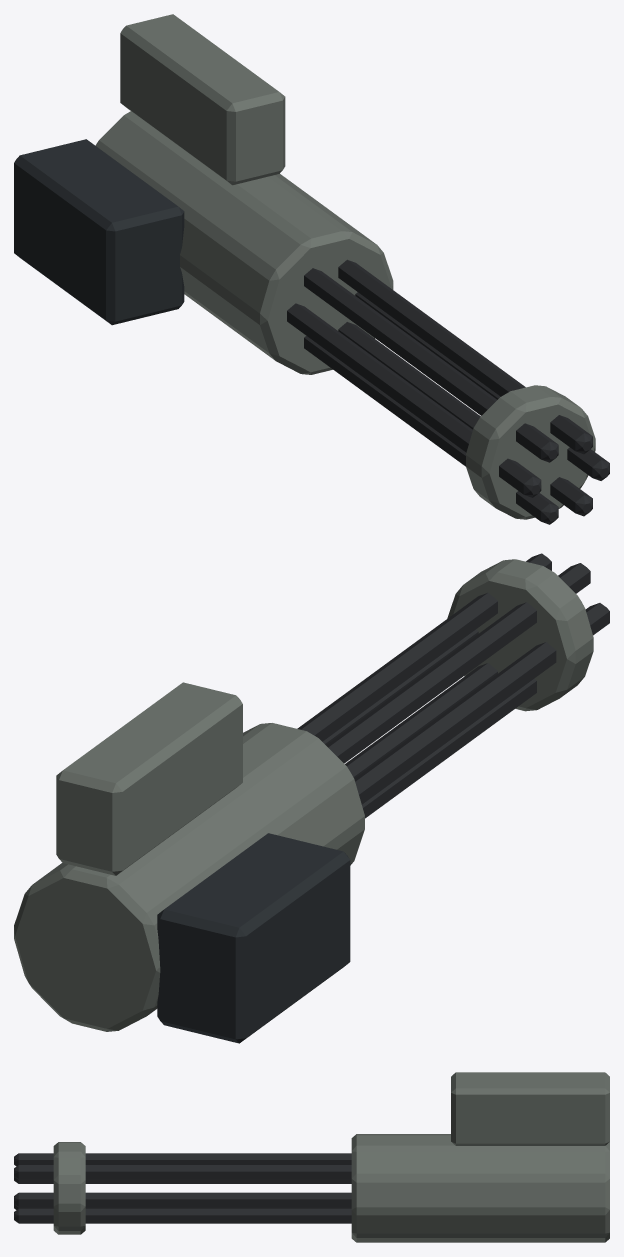
File: Gun_Minigun.fbx
The picture shows the model from 3 angles, top to bottom: view 1: azimuth 30°, elevation 25°; view 2: azimuth 150°, elevation 25°; view 3: azimuth 270°, elevation 25°; orthographic projection. The views are drawn at different scales.
Parts seen in each view (by area): view 1: Gun_Minigun; view 2: Gun_Minigun; view 3: Gun_Minigun.
Boxes of the visible parts, bbox=[...] form: Gun_Minigun: bbox=[14, 14, 609, 524]; Gun_Minigun: bbox=[14, 553, 609, 1043]; Gun_Minigun: bbox=[14, 1072, 609, 1242].
Size of the model in its own units: 0.4163 by 0.4331 by 1.5.
